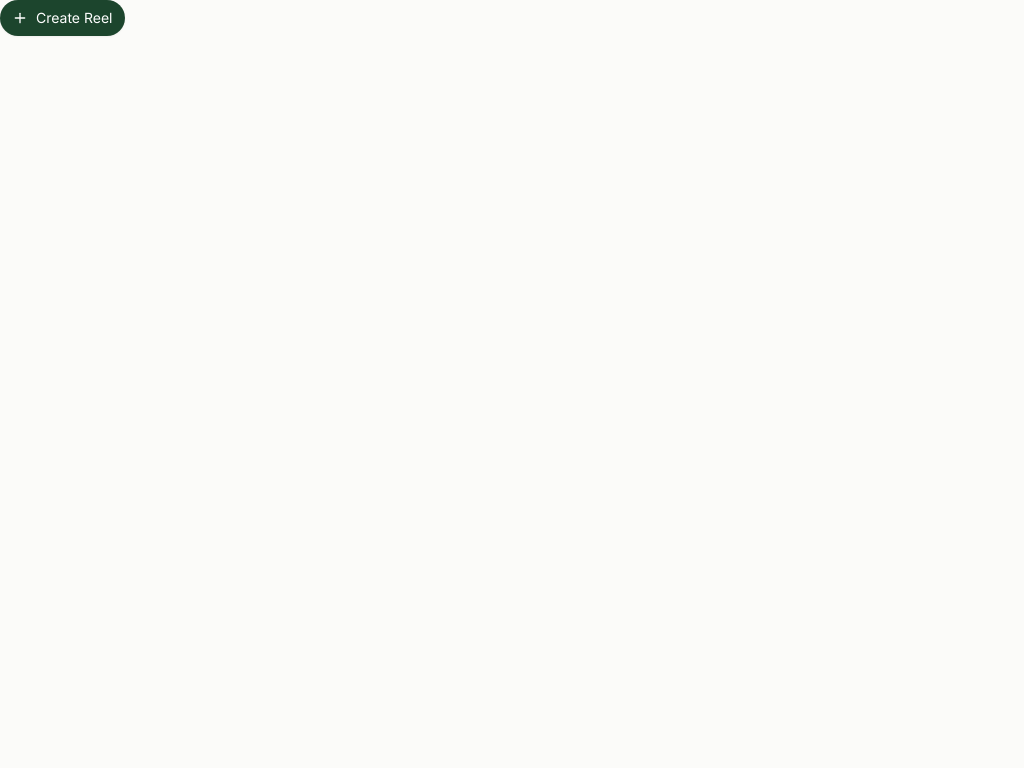
Scenario: CreateBookReelDialog › allows picking a book from user bookshelf to auto-populate title and author
Click the button "Create Reel" at (62, 18), box [0, 0, 124, 36]
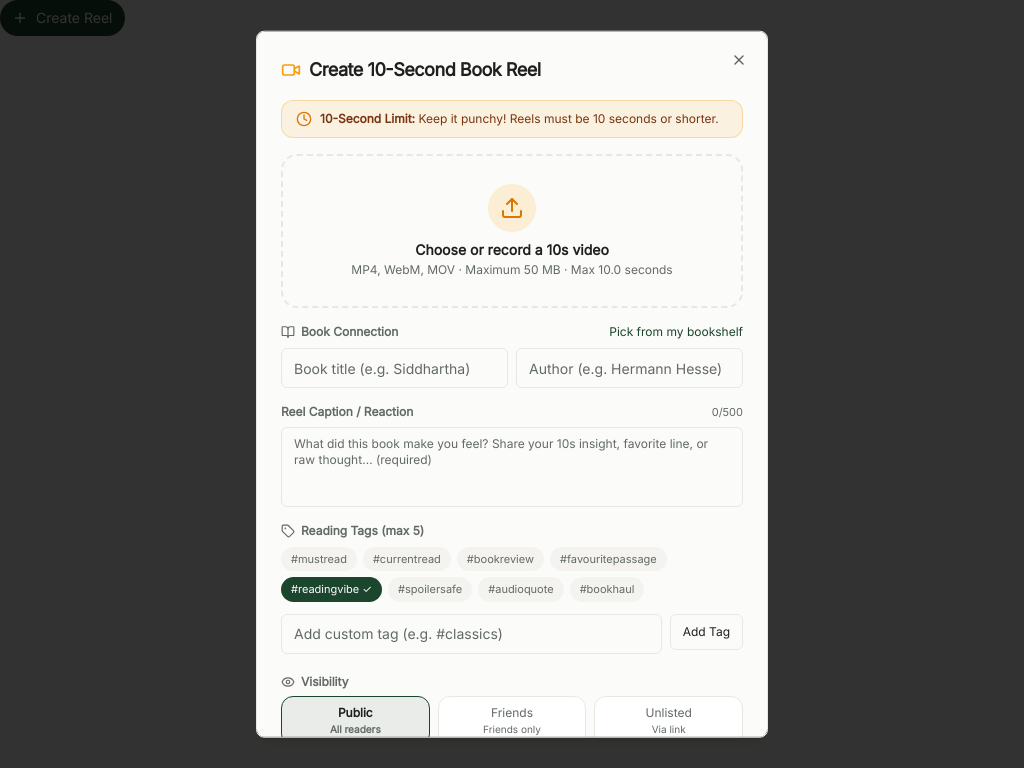
Click the button "Pick from my bookshelf" at (676, 332), box [609, 324, 743, 340]
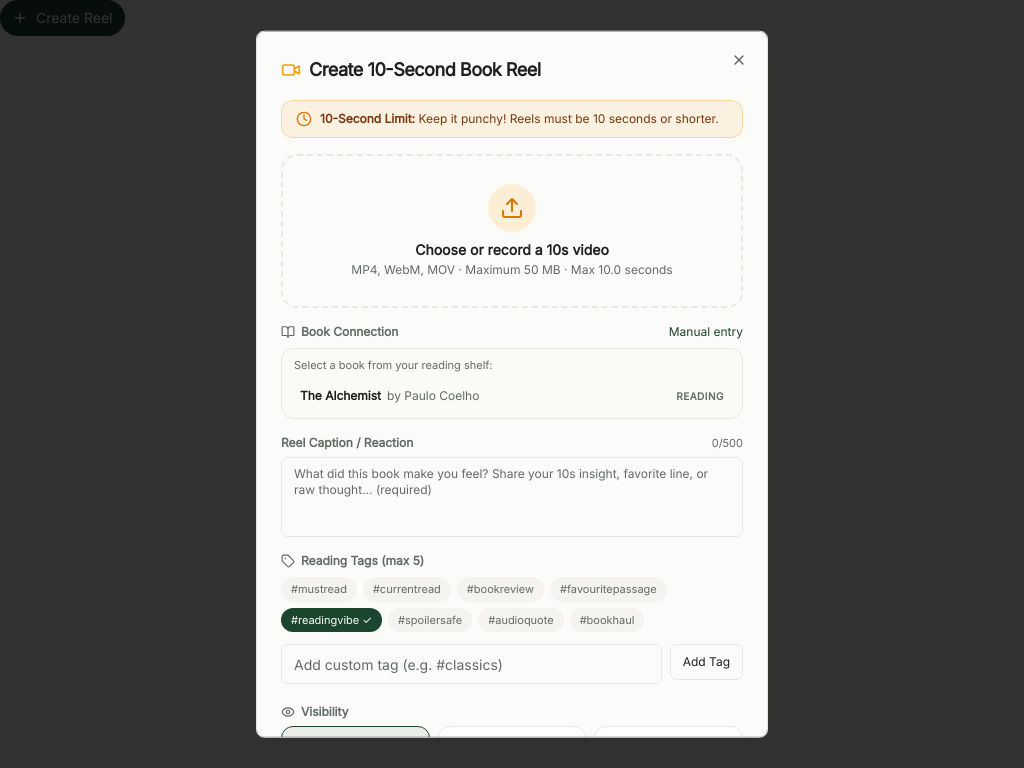
Check: the text "The Alchemist" is shown
Click the text "The Alchemist" at (340, 395), box [300, 387, 381, 402]
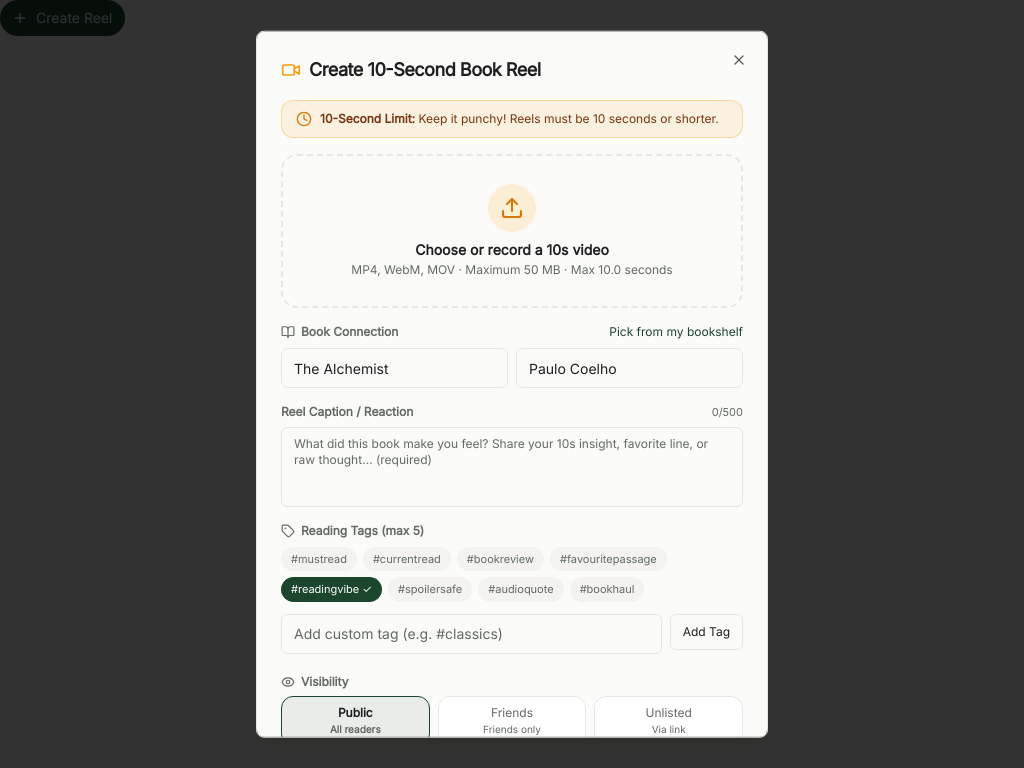
Check: the button "Pick from my bookshelf" is shown, box [609, 324, 743, 340]
